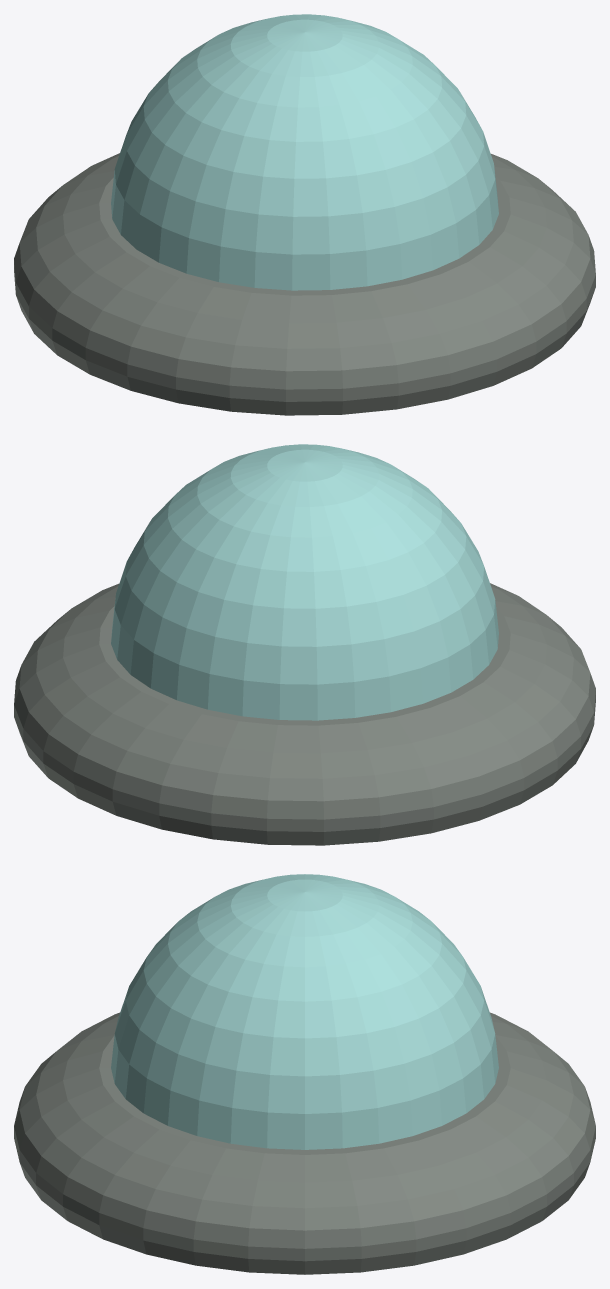
File: UFO.obj
3 views of the same model, one above another, from view 1: azimuth 30°, elevation 25°; view 2: azimuth 150°, elevation 25°; view 3: azimuth 270°, elevation 25° (orthographic).
Parts seen in each view (by area): view 1: 球; view 2: 球; view 3: 球.
Part boxes in pixels (box(x1,y1,x2,y2)): 球: box(14, 14, 595, 415); 球: box(14, 444, 595, 845); 球: box(14, 874, 595, 1274).
Bounding box in the file's own units: 4 × 2.33 × 4.
1 material, 1 textured.
